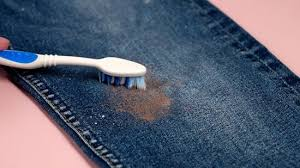earth: (123, 94, 165, 117)
